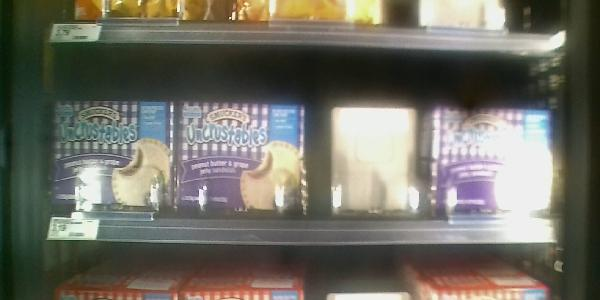icecream: (173, 97, 314, 221), (424, 101, 556, 221), (49, 101, 173, 213)
